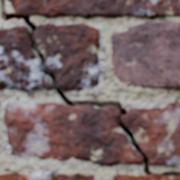brick: (112, 23, 179, 89), (8, 0, 179, 18), (0, 173, 93, 179), (114, 175, 179, 179)
broken_brick: (3, 102, 142, 166), (34, 23, 101, 92), (124, 99, 179, 166), (0, 26, 52, 91)
crack: (0, 0, 179, 177)
